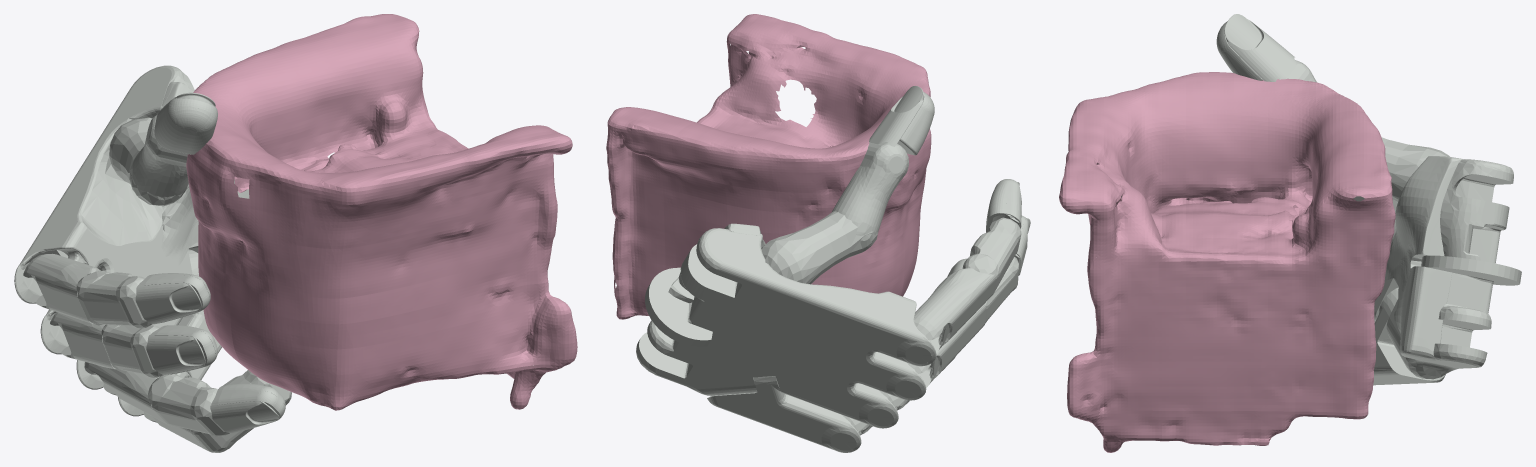
3 renders of one model, left to right at view 1: azimuth 30°, elevation 25°; view 2: azimuth 150°, elevation 25°; view 3: azimuth 270°, elevation 25°, orthographic. The views are drawn at different scales.
Visible parts, largest first — view 1: world, hand; view 2: hand, world; view 3: world, hand.
Part boxes in pixels (bbox=[...]): world: bbox=[186, 14, 577, 410]; hand: bbox=[14, 65, 291, 452]; hand: bbox=[636, 86, 1030, 452]; world: bbox=[606, 14, 931, 319]; world: bbox=[1059, 72, 1395, 452]; hand: bbox=[1121, 14, 1521, 385].
Bounding box in the file's own units: 0.1701 × 0.1533 × 0.1791.
